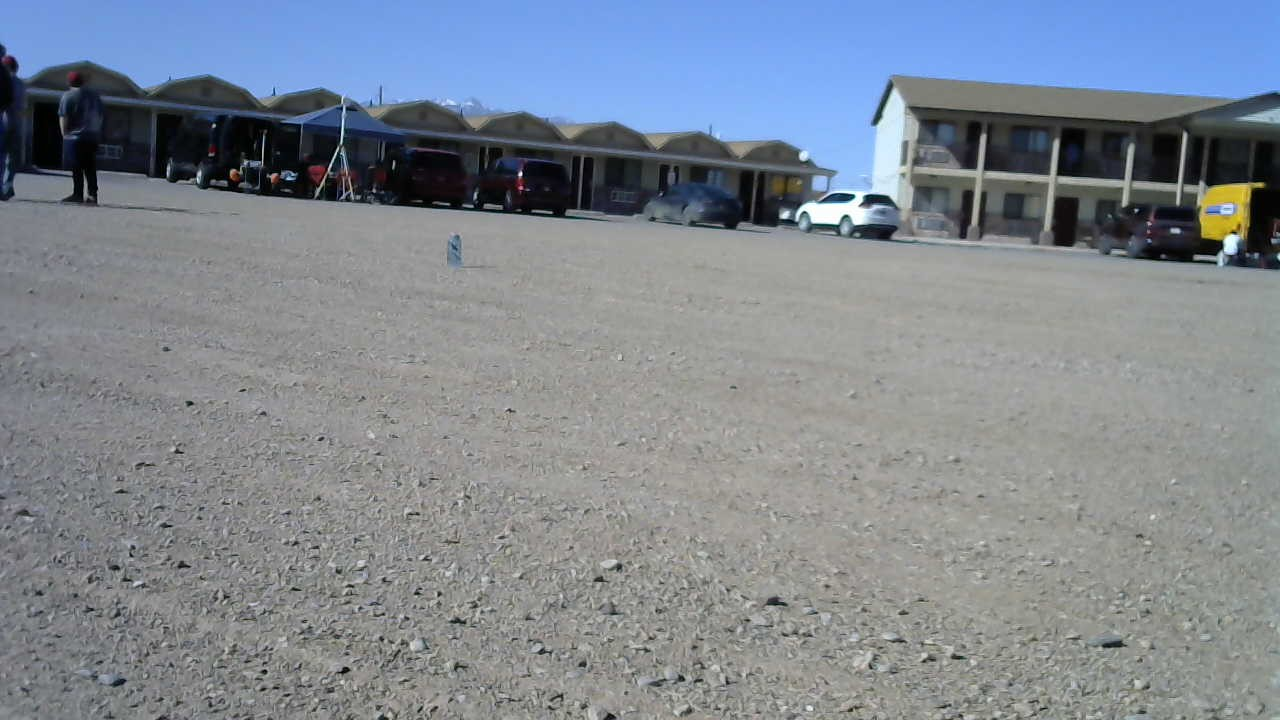bottle: (448, 231, 464, 266)
